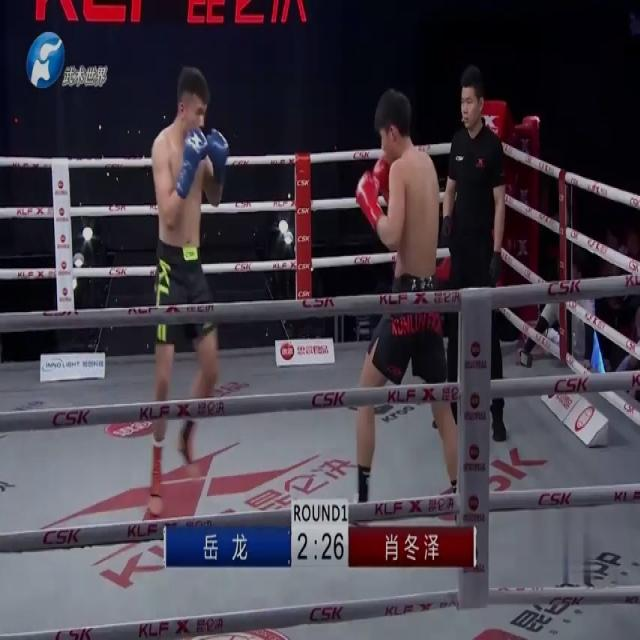fight: (148, 64, 459, 513)
non-fight: (444, 62, 515, 450)
